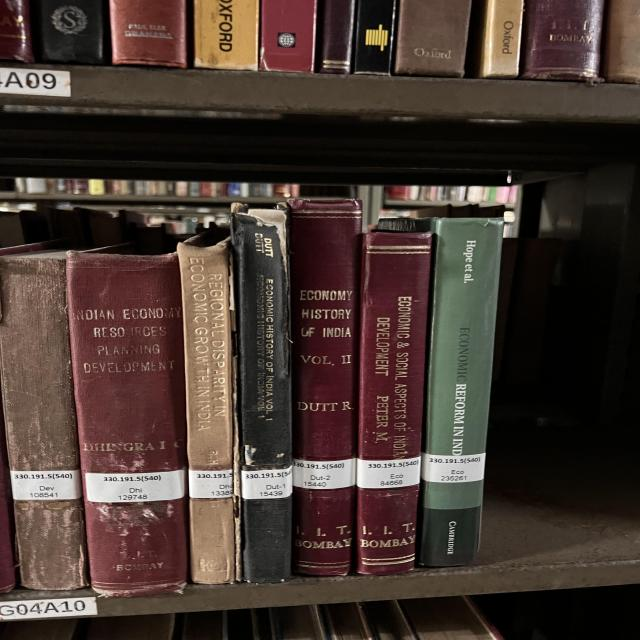Book: (67, 251, 188, 596), (417, 218, 503, 566), (0, 250, 88, 590), (288, 199, 362, 575), (357, 231, 432, 575), (232, 204, 292, 582), (177, 234, 235, 584)
Label: (85, 469, 185, 502), (10, 470, 82, 500), (357, 456, 422, 489), (292, 459, 357, 489), (422, 452, 485, 482), (242, 466, 292, 499), (188, 470, 233, 499)
